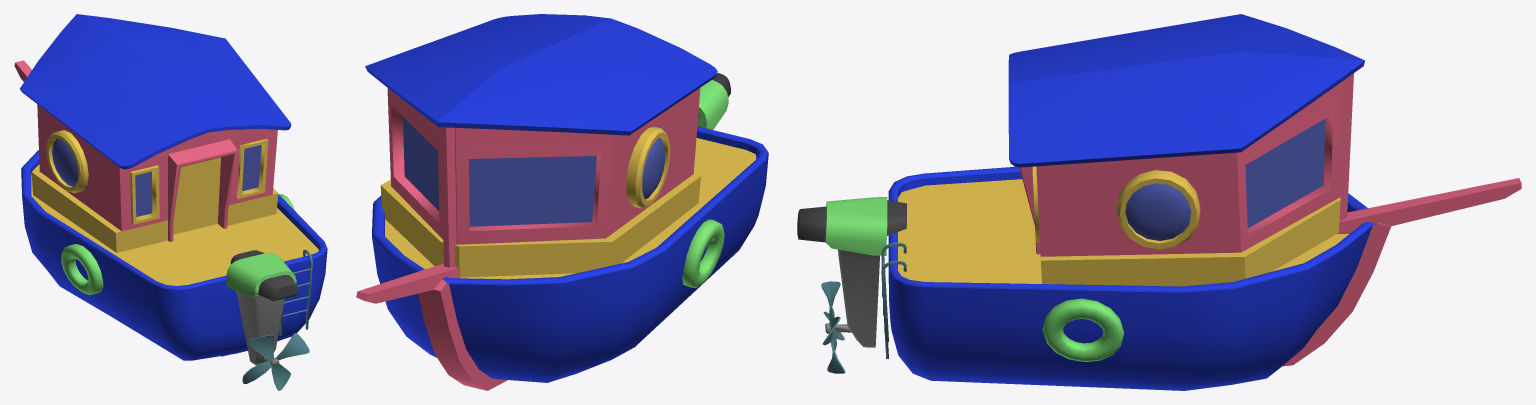
File: Boat_Custom.fbx
3 renders of one model, left to right at view 1: azimuth 30°, elevation 25°; view 2: azimuth 150°, elevation 25°; view 3: azimuth 270°, elevation 25°, orthographic. The views are drawn at different scales.
Visible parts, largest first — view 1: Boat_Custom; view 2: Boat_Custom; view 3: Boat_Custom.
Part boxes in pixels (x1,y1,x2,y2): Boat_Custom: [14, 14, 327, 390]; Boat_Custom: [356, 14, 768, 390]; Boat_Custom: [797, 14, 1521, 390].
Size of the model in its own units: 7.13 by 7.48 by 15.45.
